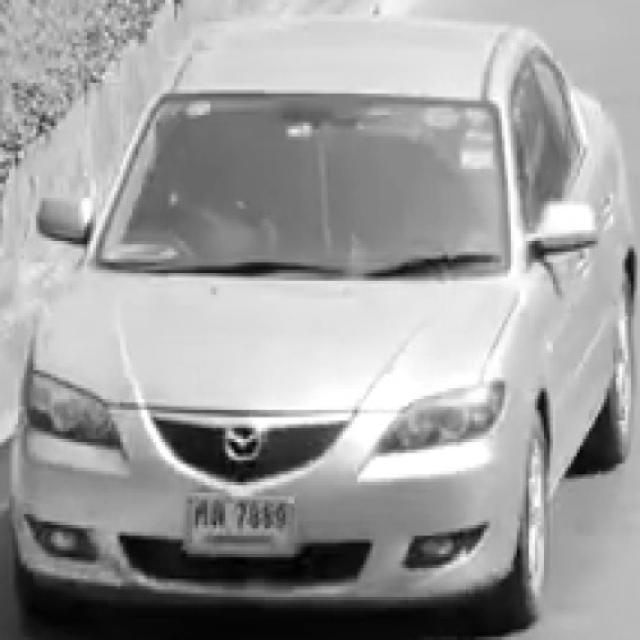plate: (187, 494, 294, 552)
